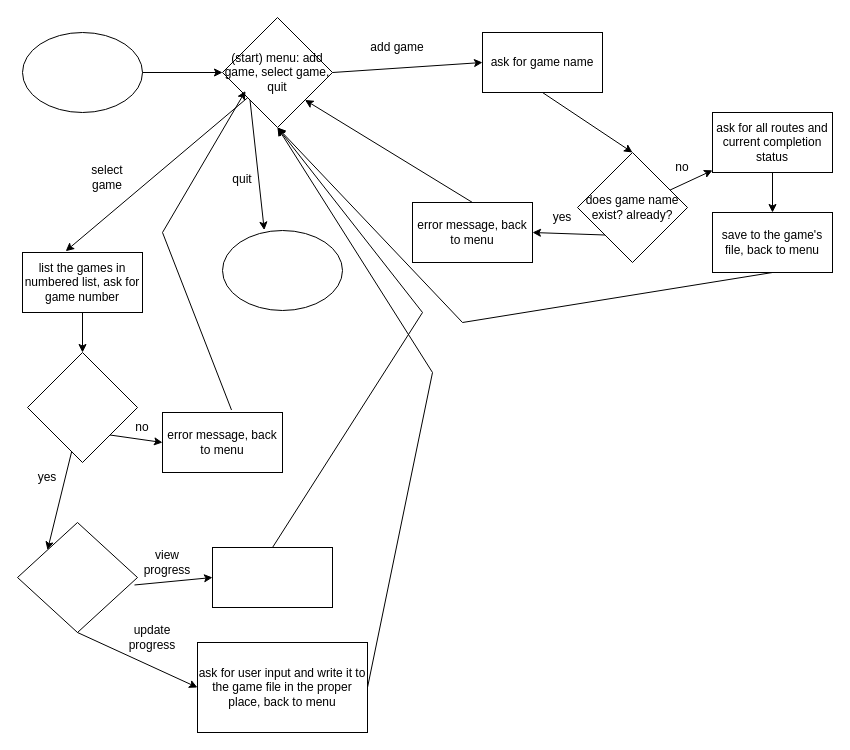
The diagram is 850 pixels wide and 750 high, and some of its shapes have lost their labels. The shapes that lost their labels are listed below. From the top down, each one's centre as x and y in pixels, then its label:
At (x=82, y=72): "start".
At (x=282, y=270): "end".
At (x=82, y=407): "is the number valid?".
At (x=77, y=577): "view progress or update progress".
At (x=272, y=577): "read from game file and display to user, back to menu".
